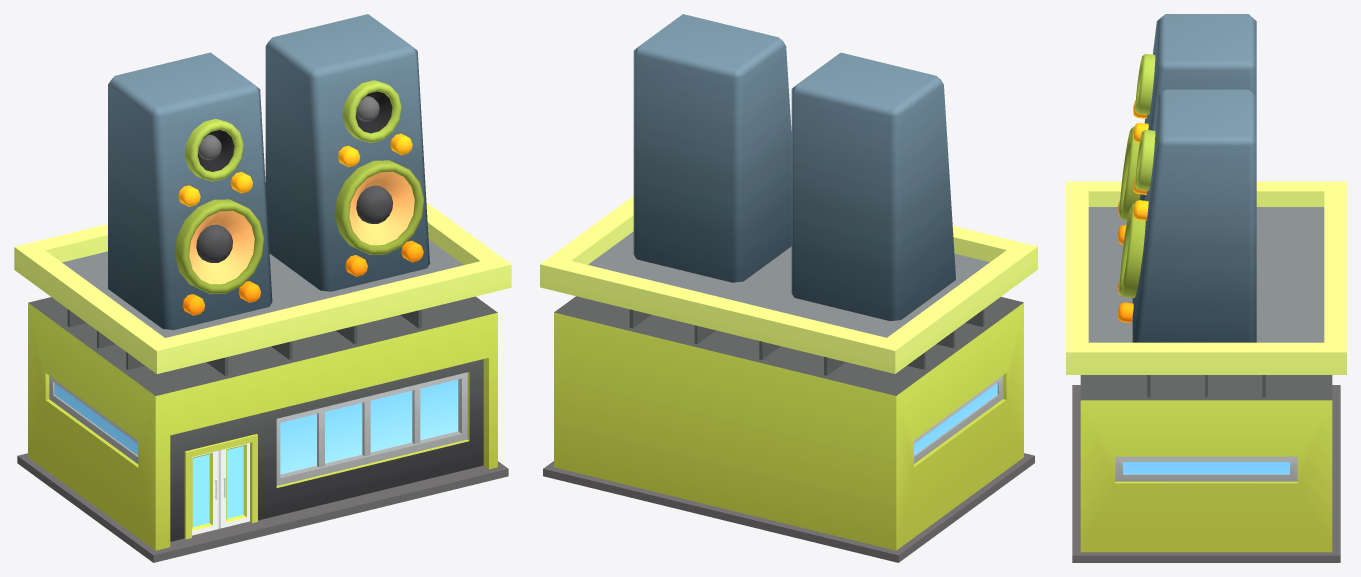
Rendered from city2-building-service-04.glb.
3 views of the same model, side by side, from view 1: azimuth 30°, elevation 25°; view 2: azimuth 150°, elevation 25°; view 3: azimuth 270°, elevation 25° (orthographic).
Parts seen in each view (by area): view 1: Building_Service_04; view 2: Building_Service_04; view 3: Building_Service_04.
Boxes of the visible parts, x1,y1,x2,y2 form: Building_Service_04: [14, 14, 511, 562]; Building_Service_04: [540, 14, 1037, 562]; Building_Service_04: [1066, 14, 1346, 562].
Size of the model in its own units: 9.86 by 10.86 by 6.86.
1 material, 1 textured.
